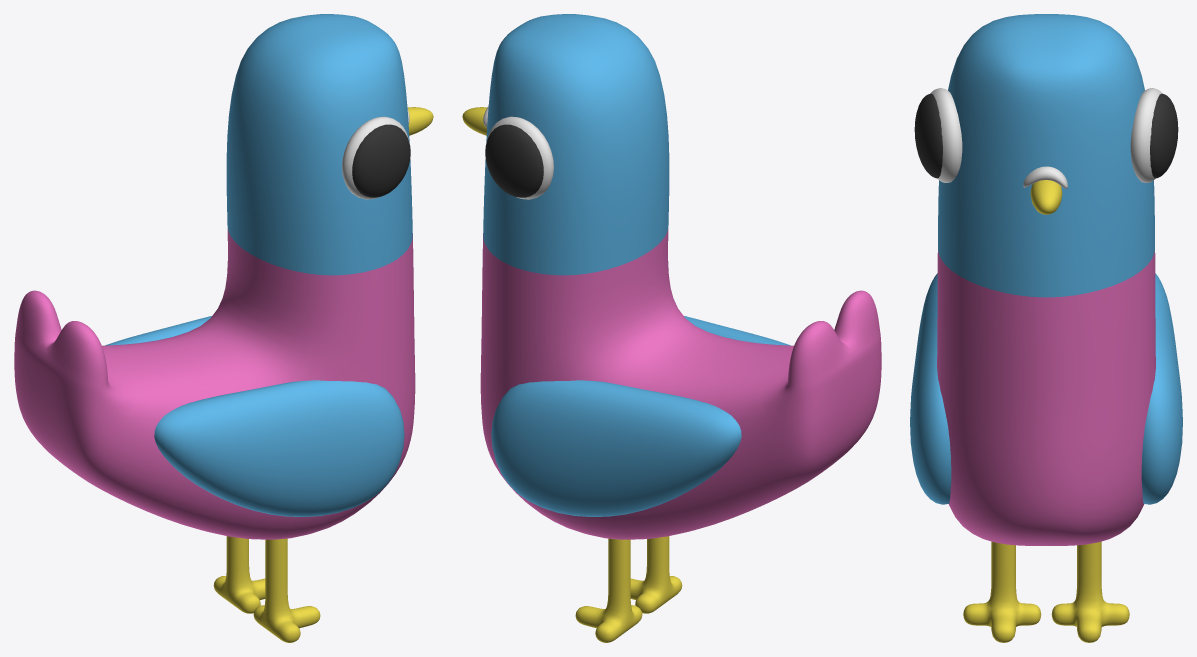
The model's file is Pato.gltf.
3 renders of one model, left to right at view 1: azimuth 30°, elevation 25°; view 2: azimuth 150°, elevation 25°; view 3: azimuth 270°, elevation 25°, orthographic. The views are drawn at different scales.
Visible parts, largest first — view 1: Cube_3, Cube.001_4, Cube.004_9, Sphere.001_6, Sphere_5; view 2: Cube_3, Cube.001_4, Cube.004_9, Sphere.001_6, Sphere_5; view 3: Cube_3, Cube.001_4, Cube.004_9, Sphere.001_6, Sphere_5, Cube.002_7, Cube.003_8.
Part boxes in pixels (x1=…): Cube_3: x1=14, y1=14, x2=415, y2=539; Cube.001_4: x1=105, y1=316, x2=404, y2=516; Cube.004_9: x1=213, y1=536, x2=320, y2=642; Sphere.001_6: x1=352, y1=124, x2=410, y2=197; Sphere_5: x1=342, y1=116, x2=409, y2=199; Cube_3: x1=480, y1=14, x2=881, y2=539; Cube.001_4: x1=491, y1=316, x2=790, y2=516; Cube.004_9: x1=575, y1=536, x2=682, y2=642; Sphere.001_6: x1=485, y1=124, x2=543, y2=197; Sphere_5: x1=486, y1=116, x2=553, y2=199; Cube_3: x1=937, y1=14, x2=1155, y2=545; Cube.001_4: x1=910, y1=273, x2=1182, y2=504; Cube.004_9: x1=963, y1=541, x2=1129, y2=642; Sphere.001_6: x1=914, y1=93, x2=1178, y2=178; Sphere_5: x1=930, y1=88, x2=1162, y2=182; Cube.002_7: x1=1030, y1=180, x2=1062, y2=214; Cube.003_8: x1=1023, y1=166, x2=1067, y2=188.
Bounding box in the file's own units: 1.05 × 1.46 × 0.5693.
